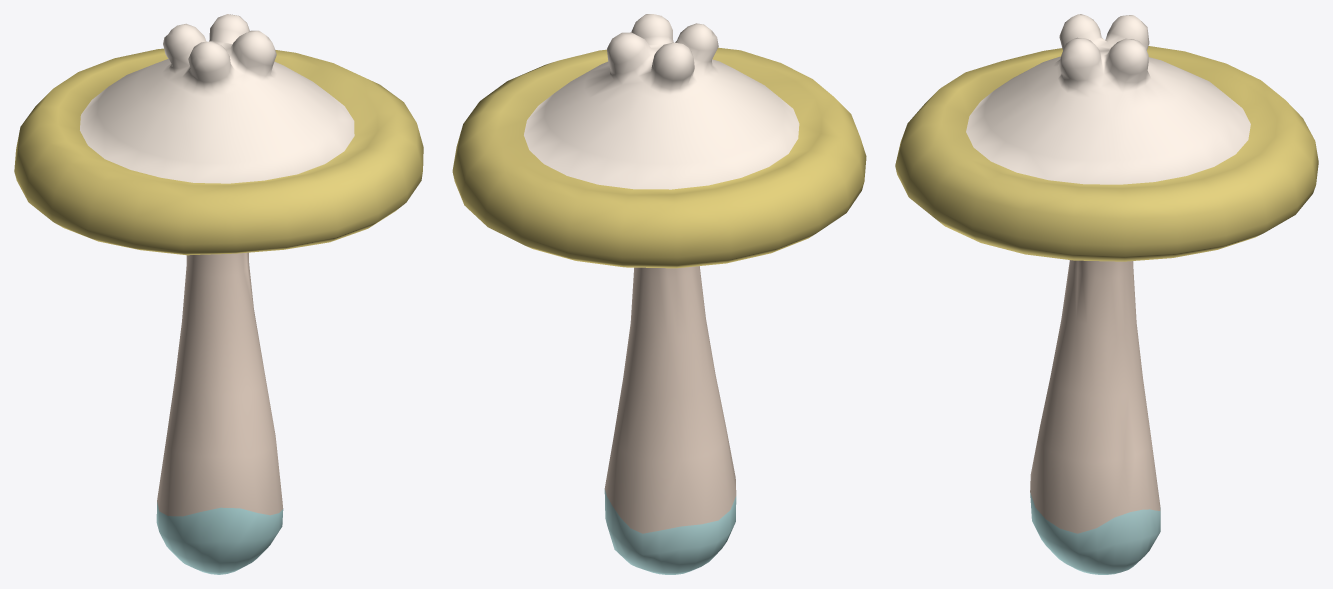
Rendered from mushroom 13.fbx.
3 renders of one model, left to right at view 1: azimuth 30°, elevation 25°; view 2: azimuth 150°, elevation 25°; view 3: azimuth 270°, elevation 25°, orthographic.
Visible parts, largest first — view 1: Mushroom_0001_0013; view 2: Mushroom_0001_0013; view 3: Mushroom_0001_0013.
Part boxes in pixels (bbox=[...]): Mushroom_0001_0013: bbox=[14, 14, 423, 574]; Mushroom_0001_0013: bbox=[452, 14, 866, 574]; Mushroom_0001_0013: bbox=[895, 14, 1318, 574].
Size of the model in its own units: 19.09 by 27.54 by 19.59.
Materials: 1 (1 with a texture image).
